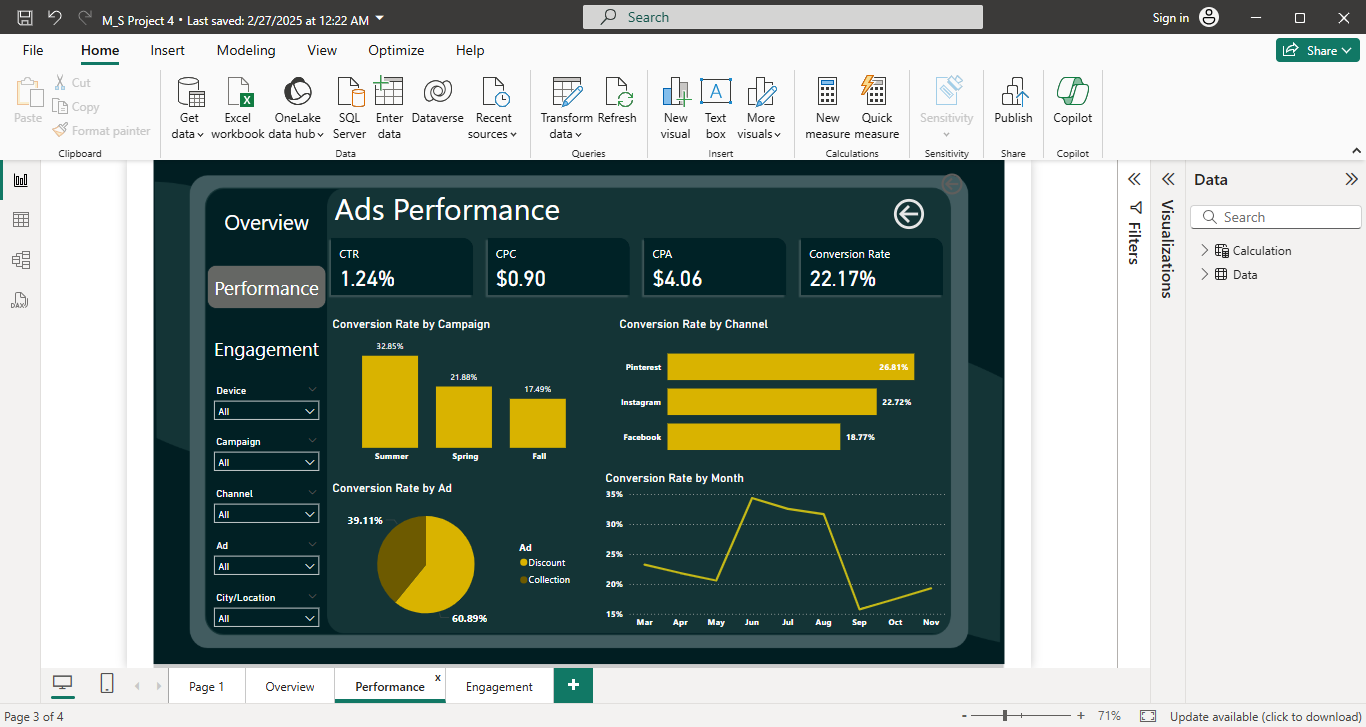

This screenshot's page, from the dashboard's own definition file:
{"tool":"powerbi","page":{"name":"Performance","canvas":[1280,720],"ordinal":2},"visuals":[{"type":"cardVisual","fields":{"Data":["Calculation.CTR","Calculation.CPC","Calculation.CPA","Calculation.Conversion Rate"]},"box":[277.8,99.2,891.5,104.9],"z":0},{"type":"lineStackedColumnComboChart","fields":{"Category":["Data.Campaign"],"Y":["Calculation.Conversion Rate"]},"box":[286.3,222.5,386.9,215.4],"z":1000},{"type":"barChart","fields":{"Y":["Calculation.Conversion Rate"],"Category":["Data.Channel"]},"box":[693.1,222.5,476.2,215.4],"z":2000},{"type":"pieChart","fields":{"Y":["Calculation.Conversion Rate"],"Category":["Data.Ad"]},"box":[286.3,455,355.7,218.3],"z":3000},{"type":"lineChart","fields":{"Category":["Data.Month"],"Y":["Calculation.Conversion Rate"]},"box":[673.2,440.8,491.8,232.4],"z":4000},{"type":"textbox","box":[289.1,34,384.1,107.7],"z":5000},{"type":"actionButton","box":[1149.4,14.2,100.6,39.7],"z":6000},{"type":"slicer","fields":{"Values":["Data.Ad"]},"box":[113.4,532.9,168.7,73.7],"z":7000},{"type":"slicer","fields":{"Values":["Data.City/Location"]},"box":[113.4,606.6,168.7,73.7],"z":8000},{"type":"slicer","fields":{"Values":["Data.Channel"]},"box":[113.4,459.2,168.7,73.7],"z":9000},{"type":"slicer","fields":{"Values":["Data.Campaign"]},"box":[113.4,385.5,168.7,73.7],"z":10000},{"type":"slicer","fields":{"Values":["Data.Device"]},"box":[113.4,313.2,168.7,73.7],"z":11000},{"type":"actionButton","box":[113.4,55.3,168.7,62.4],"z":12000},{"type":"actionButton","box":[113.4,148.8,168.7,62.4],"z":13000},{"type":"actionButton","box":[113.4,235.3,168.7,62.4],"z":14000},{"type":"actionButton","box":[1081.4,49.6,117.6,53.9],"z":15000}]}

Visuals, with their boxes on the page's 1280x720 design canvas (x1, y1, x2, y2). These are canvas units, not pixel positions in the 1366x727 screenshot, which may show the page scaled, cropped or inside an application window:
cardVisual - Calculation.CTR x Calculation.CPC: {"x1": 278, "y1": 99, "x2": 1169, "y2": 204}
lineStackedColumnComboChart - Data.Campaign x Calculation.Conversion Rate: {"x1": 286, "y1": 222, "x2": 673, "y2": 438}
barChart - Calculation.Conversion Rate x Data.Channel: {"x1": 693, "y1": 222, "x2": 1169, "y2": 438}
pieChart - Calculation.Conversion Rate x Data.Ad: {"x1": 286, "y1": 455, "x2": 642, "y2": 673}
lineChart - Data.Month x Calculation.Conversion Rate: {"x1": 673, "y1": 441, "x2": 1165, "y2": 673}
textbox: {"x1": 289, "y1": 34, "x2": 673, "y2": 142}
actionButton: {"x1": 1149, "y1": 14, "x2": 1250, "y2": 54}
slicer - Data.Ad: {"x1": 113, "y1": 533, "x2": 282, "y2": 607}
slicer - Data.City/Location: {"x1": 113, "y1": 607, "x2": 282, "y2": 680}
slicer - Data.Channel: {"x1": 113, "y1": 459, "x2": 282, "y2": 533}
slicer - Data.Campaign: {"x1": 113, "y1": 386, "x2": 282, "y2": 459}
slicer - Data.Device: {"x1": 113, "y1": 313, "x2": 282, "y2": 387}
actionButton: {"x1": 113, "y1": 55, "x2": 282, "y2": 118}
actionButton: {"x1": 113, "y1": 149, "x2": 282, "y2": 211}
actionButton: {"x1": 113, "y1": 235, "x2": 282, "y2": 298}
actionButton: {"x1": 1081, "y1": 50, "x2": 1199, "y2": 104}
